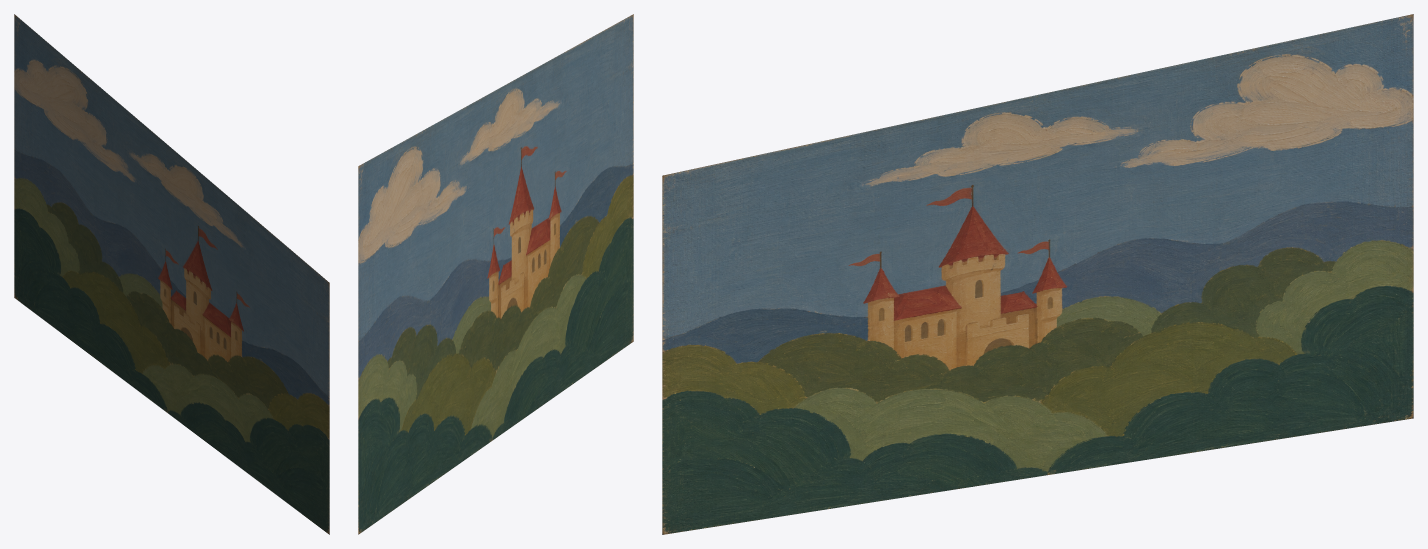
File: SM_Menu_CastleCanvas.fbx
The picture shows the model from 3 angles, left to right: view 1: azimuth 30°, elevation 25°; view 2: azimuth 150°, elevation 25°; view 3: azimuth 270°, elevation 25°; orthographic projection. The views are drawn at different scales.
Parts seen in each view (by area): view 1: Painted canvas.001_Baked; view 2: Painted canvas.001_Baked; view 3: Painted canvas.001_Baked.
Boxes of the visible parts, x1,y1,x2,y2 form: Painted canvas.001_Baked: [14, 14, 329, 534]; Painted canvas.001_Baked: [358, 14, 633, 534]; Painted canvas.001_Baked: [662, 14, 1413, 534].
Size of the model in its own units: 80 by 709 by 505.
